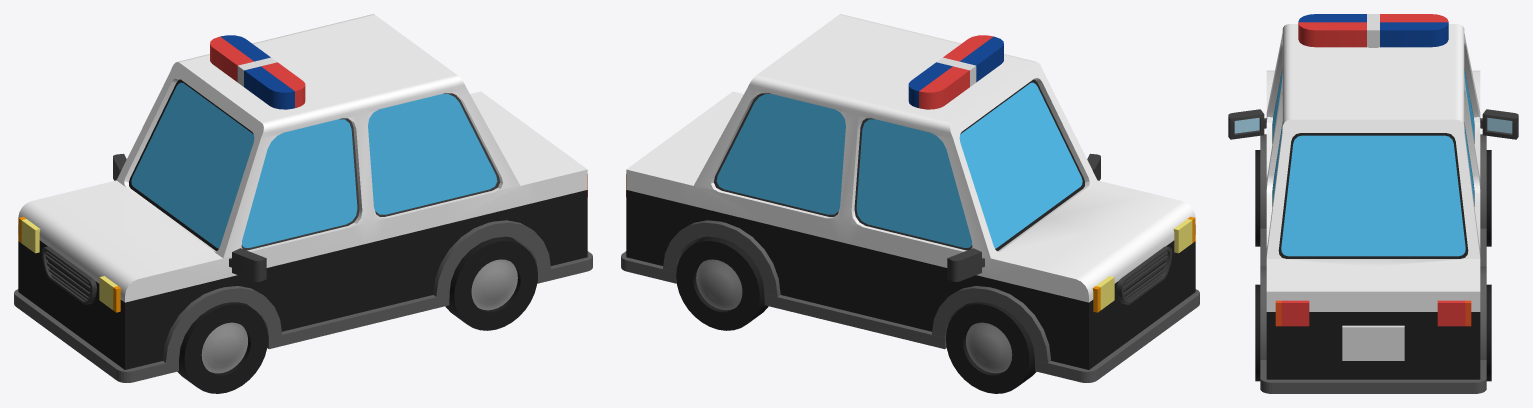
File: police_car.glb
3 views of the same model, side by side, from view 1: azimuth 30°, elevation 25°; view 2: azimuth 150°, elevation 25°; view 3: azimuth 270°, elevation 25° (orthographic).
Visible parts, largest first — view 1: Cube.657; view 2: Cube.657; view 3: Cube.657.
Part boxes in pixels (box(x1,y1,x2,y2)): Cube.657: box(14, 14, 592, 393); Cube.657: box(621, 14, 1199, 393); Cube.657: box(1228, 14, 1518, 393).
Size of the model in its own units: 2.17 by 1.17 by 1.15.
1 material, 1 textured.
